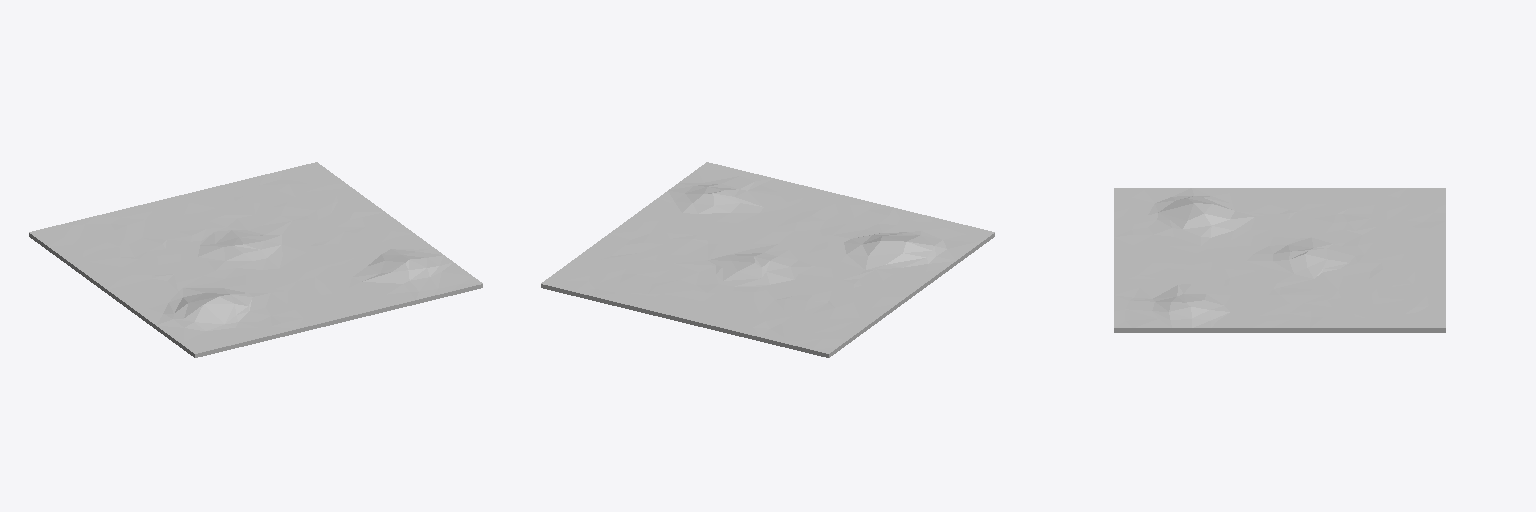
Rendered from flat.obj.
3 renders of one model, left to right at view 1: azimuth 30°, elevation 25°; view 2: azimuth 150°, elevation 25°; view 3: azimuth 270°, elevation 25°, orthographic.
Visible parts, largest first — view 1: Cube; view 2: Cube; view 3: Cube.
Boxes of the visible parts, box(x1,y1,x2,y2) form: Cube: box(29, 162, 482, 357); Cube: box(541, 162, 994, 357); Cube: box(1114, 188, 1445, 332).
Bounding box in the file's own units: 50 × 2.06 × 50.